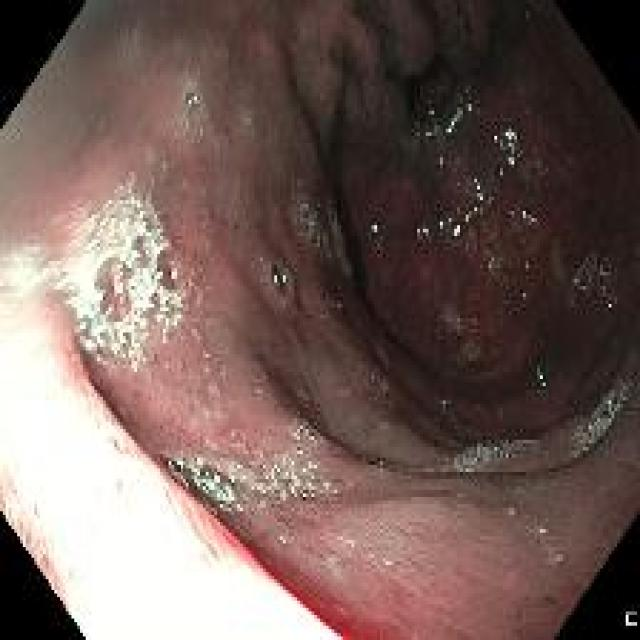bubbles: (71, 189, 198, 376), (255, 413, 341, 510), (162, 444, 253, 517), (171, 72, 229, 156), (90, 249, 136, 333), (575, 379, 628, 450), (293, 190, 346, 261), (449, 437, 524, 481), (569, 252, 611, 305), (538, 521, 572, 566), (154, 245, 182, 293), (128, 229, 154, 271), (269, 264, 291, 298), (445, 102, 462, 136), (142, 289, 161, 318), (461, 341, 480, 366), (519, 204, 537, 226), (163, 299, 180, 322), (601, 296, 618, 318), (504, 125, 519, 148), (241, 104, 255, 127), (564, 150, 578, 171), (185, 91, 200, 110), (416, 226, 432, 243), (522, 6, 534, 25), (615, 229, 626, 249), (426, 123, 438, 140), (493, 129, 504, 147), (374, 459, 387, 474), (346, 537, 357, 552), (423, 105, 434, 120), (465, 97, 473, 112)
saturation: (96, 403, 341, 639), (0, 246, 96, 639)
specularity: (193, 467, 240, 512), (256, 455, 287, 498), (445, 106, 464, 136), (533, 364, 549, 394), (166, 452, 185, 473), (503, 126, 518, 151), (462, 203, 482, 221), (472, 179, 487, 200), (520, 210, 538, 226), (294, 417, 304, 445), (451, 223, 463, 240), (111, 283, 125, 297), (415, 226, 432, 237), (368, 221, 382, 234), (437, 218, 449, 233), (423, 105, 436, 118), (504, 156, 518, 168), (491, 133, 502, 147), (521, 259, 531, 274), (168, 267, 179, 280), (91, 290, 104, 301), (289, 481, 297, 498), (281, 274, 290, 289), (426, 125, 437, 136), (464, 99, 473, 112), (298, 489, 309, 499), (495, 168, 506, 177), (273, 274, 279, 287), (194, 94, 199, 109), (522, 290, 527, 303)
